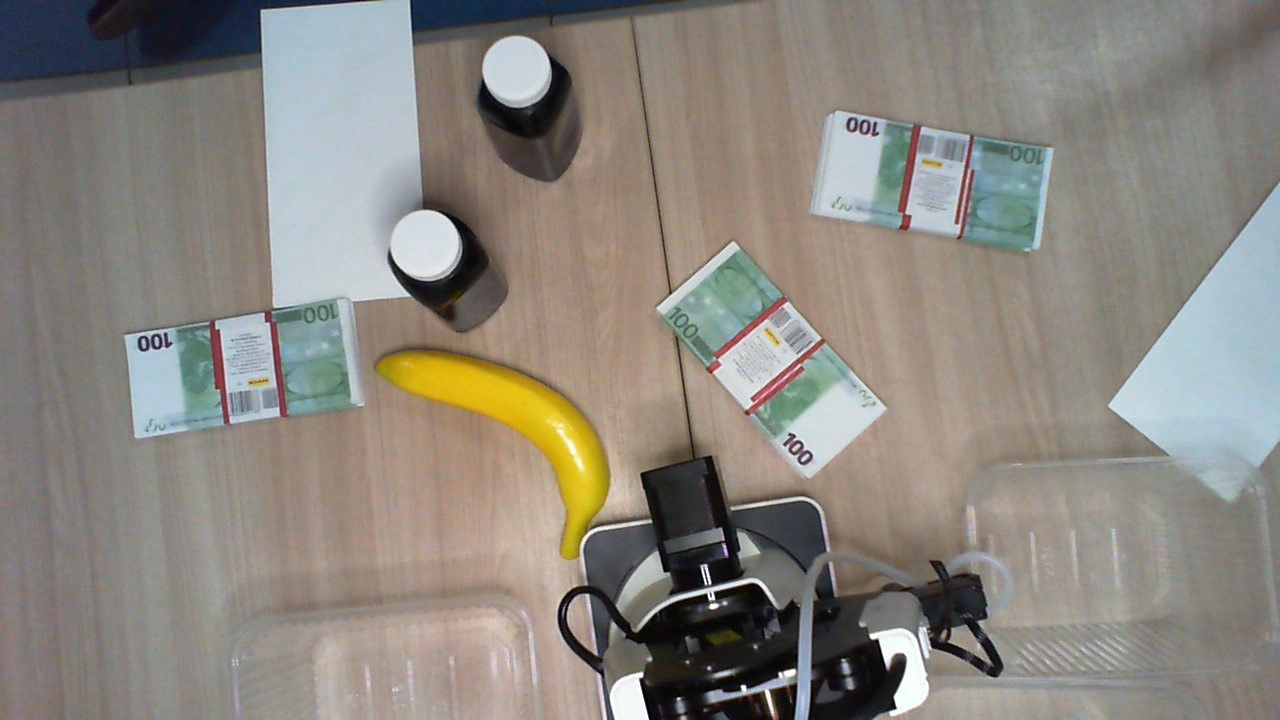banana: (370, 348, 611, 560)
bottle: (386, 202, 485, 308), (478, 35, 572, 135)
convert: (1107, 183, 1280, 498), (258, 1, 430, 309)
money: (658, 240, 883, 479), (811, 108, 1053, 254), (123, 297, 367, 441)
